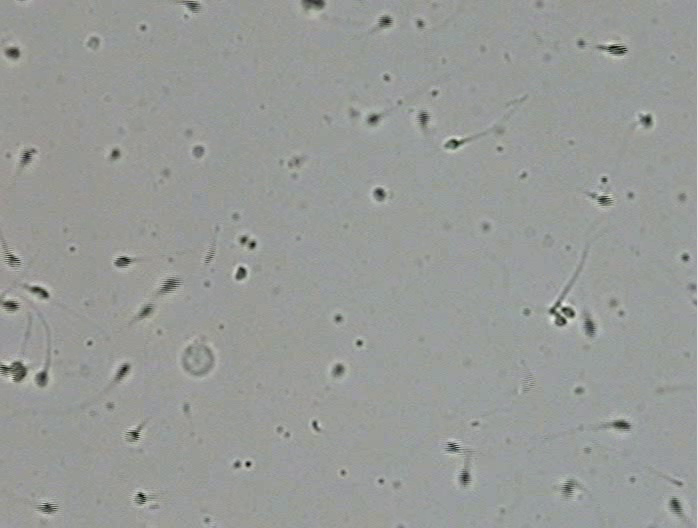Impurity: (181, 344, 215, 375), (85, 36, 100, 50)
S: (1, 360, 26, 382), (160, 277, 182, 293), (668, 496, 683, 517), (3, 252, 21, 269), (115, 362, 130, 382), (27, 286, 50, 299), (560, 479, 575, 497), (34, 369, 49, 386), (300, 1, 325, 11), (2, 300, 21, 313), (607, 44, 629, 55), (137, 304, 153, 319), (458, 470, 472, 487), (596, 194, 614, 207), (582, 319, 595, 337), (185, 1, 202, 14), (124, 430, 141, 443), (417, 109, 430, 126), (114, 256, 132, 268), (444, 441, 462, 453), (613, 419, 631, 431), (133, 491, 148, 505), (377, 15, 393, 28), (19, 149, 32, 164), (235, 266, 248, 281), (331, 363, 344, 378), (373, 186, 386, 201), (640, 113, 653, 128), (38, 502, 55, 513), (444, 139, 461, 150), (5, 47, 20, 59), (365, 113, 380, 125), (192, 145, 205, 158), (561, 307, 575, 317), (109, 149, 121, 160), (554, 316, 567, 326)
